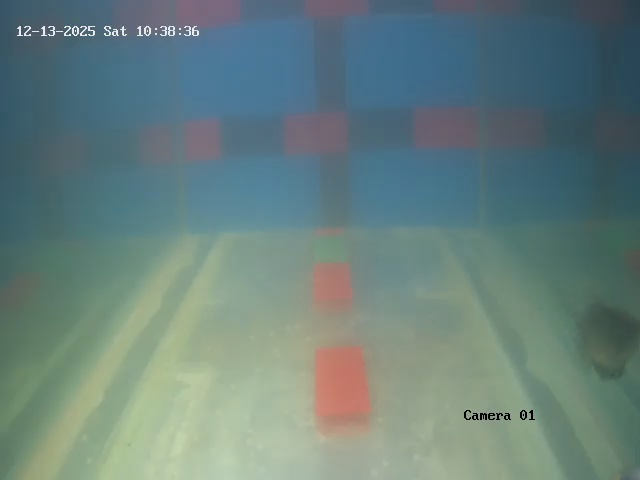fish: (573, 300, 635, 383)
